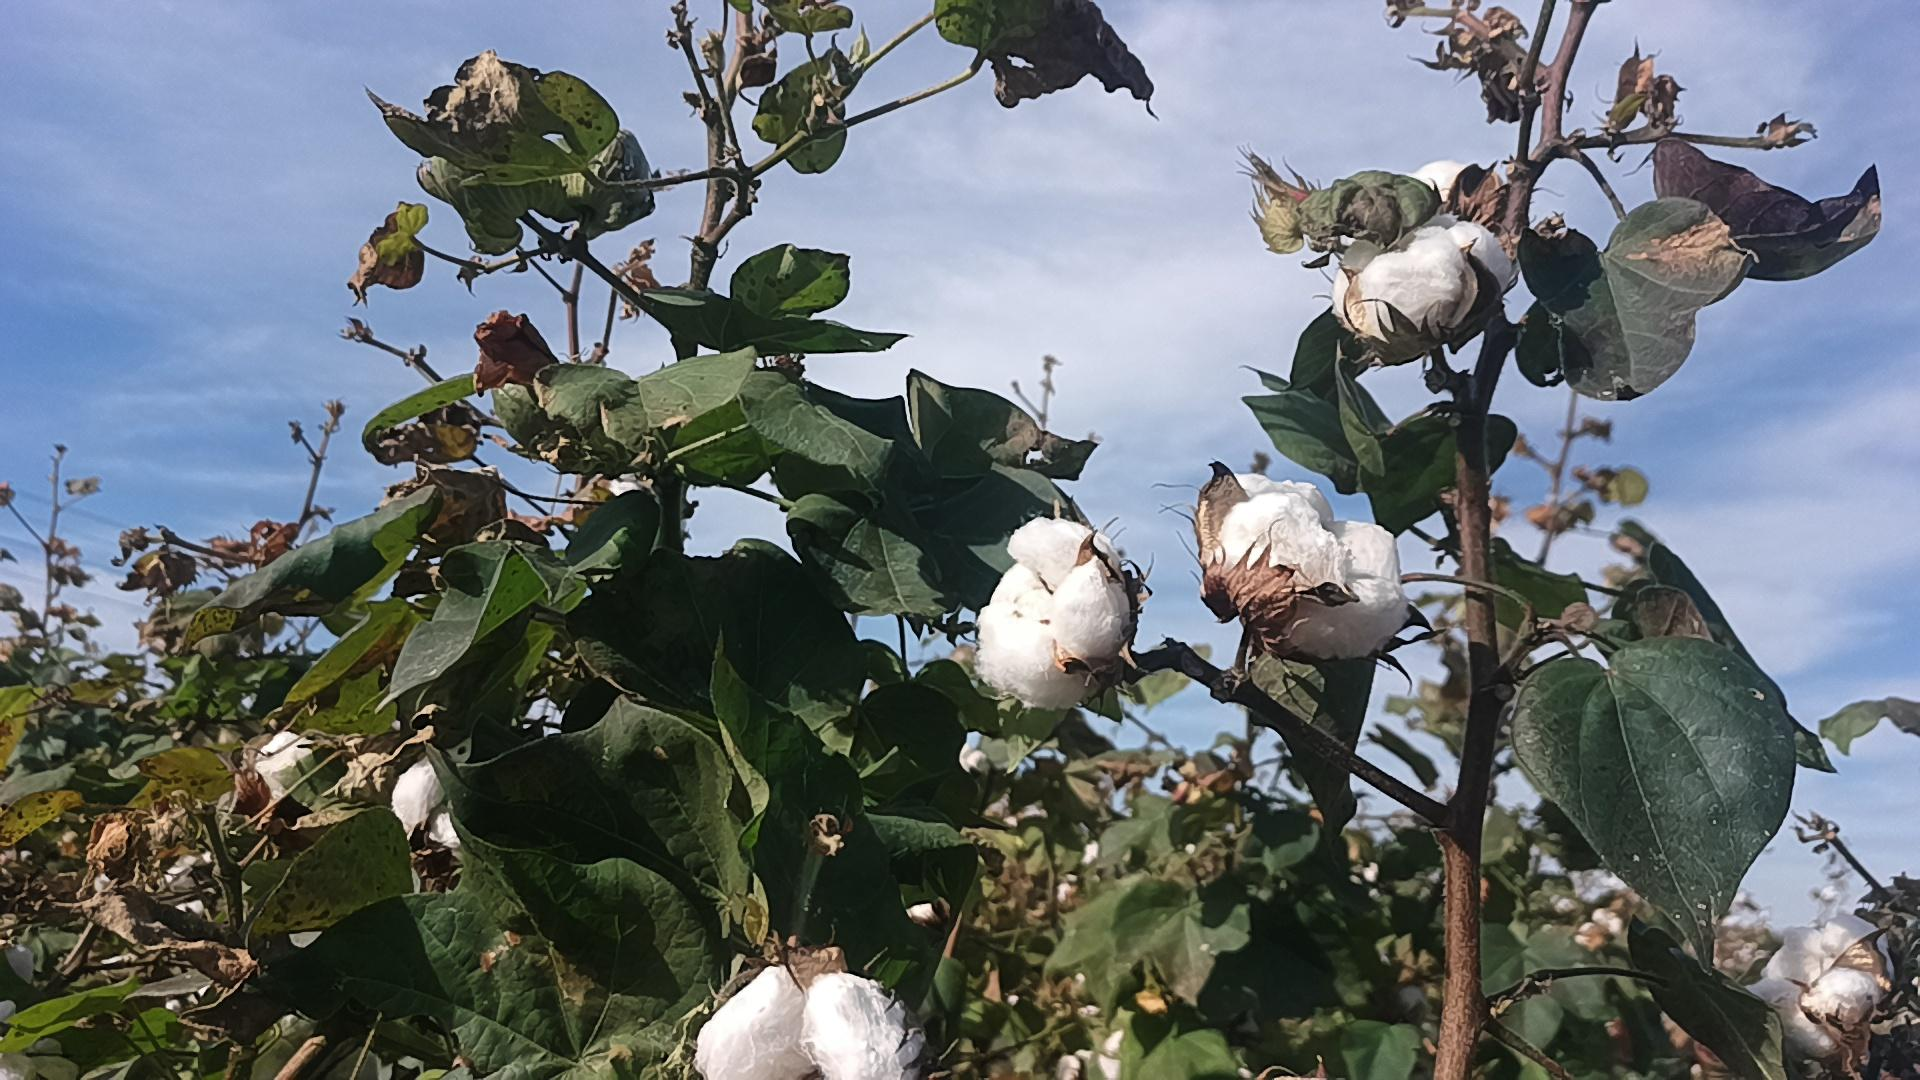cotton_ready: (1201, 468, 1410, 651), (1336, 160, 1515, 359), (978, 517, 1139, 716), (698, 953, 898, 1080), (1746, 920, 1886, 1051), (393, 721, 479, 853)
